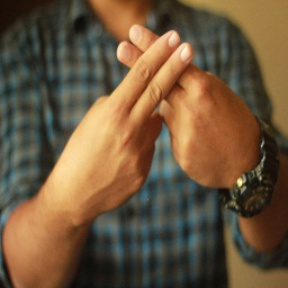F: (92, 16, 227, 166)
